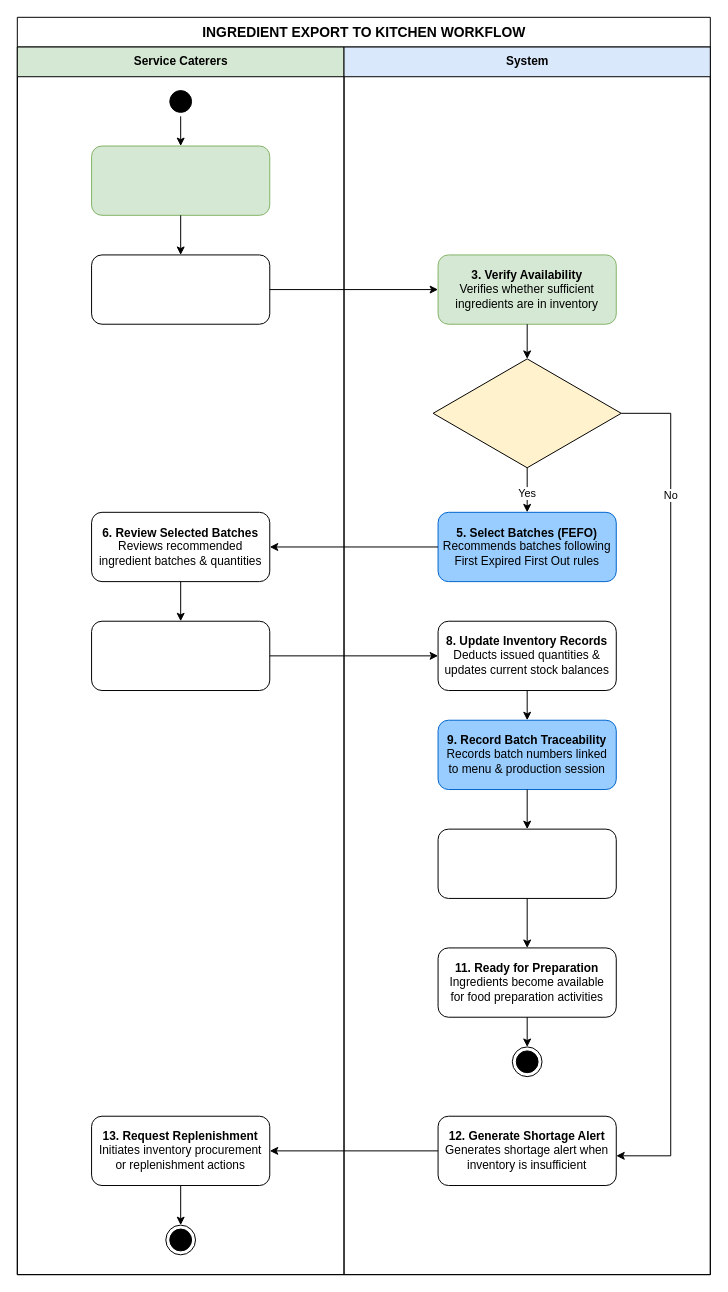
Some shapes in this 728 by 1292 pixel diagram are drawn without their labels. The centre of each missing label's shape, as x and y in pixels:
"1. Review Approved Menu Reviews approved menu & defines ingredient needs" goes at (180,180).
"10. Generate Issue Record Generates issue record and saves in audit log" goes at (526,863).
"2. Create Issue Request Creates request based on menu & expected meal quantity" goes at (180,289).
"4. Inventory Available? BR-077, BR-075, BR-205" goes at (526,413).
"7. Issue Ingredients Moves ingredients physically to kitchen preparation area" goes at (180,655).
